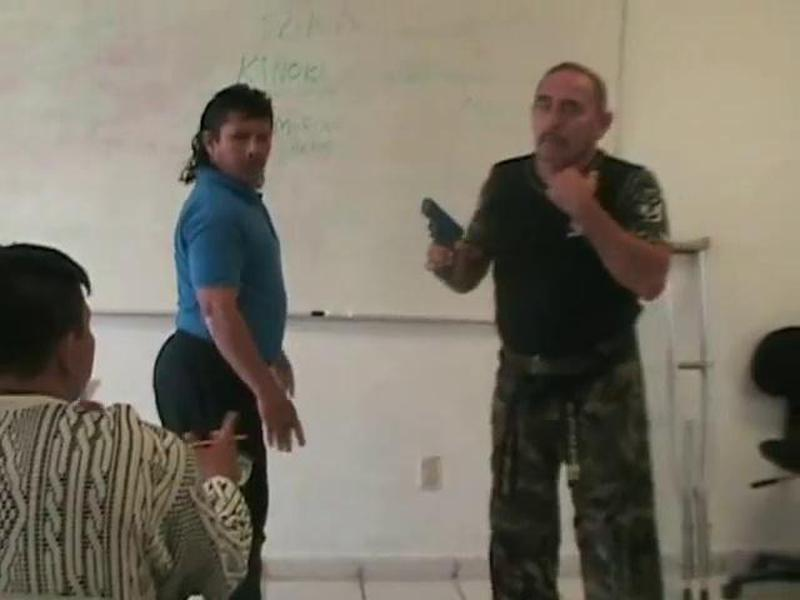Pistola: (407, 189, 465, 277)
